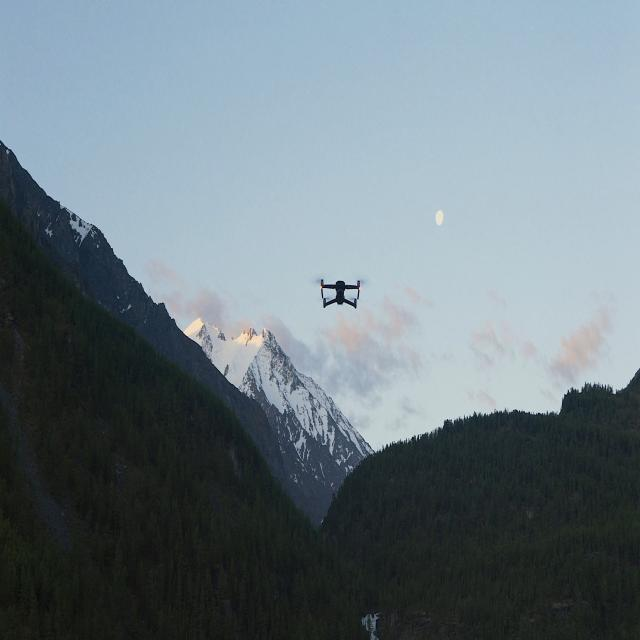Drone: (316, 272, 364, 317)
